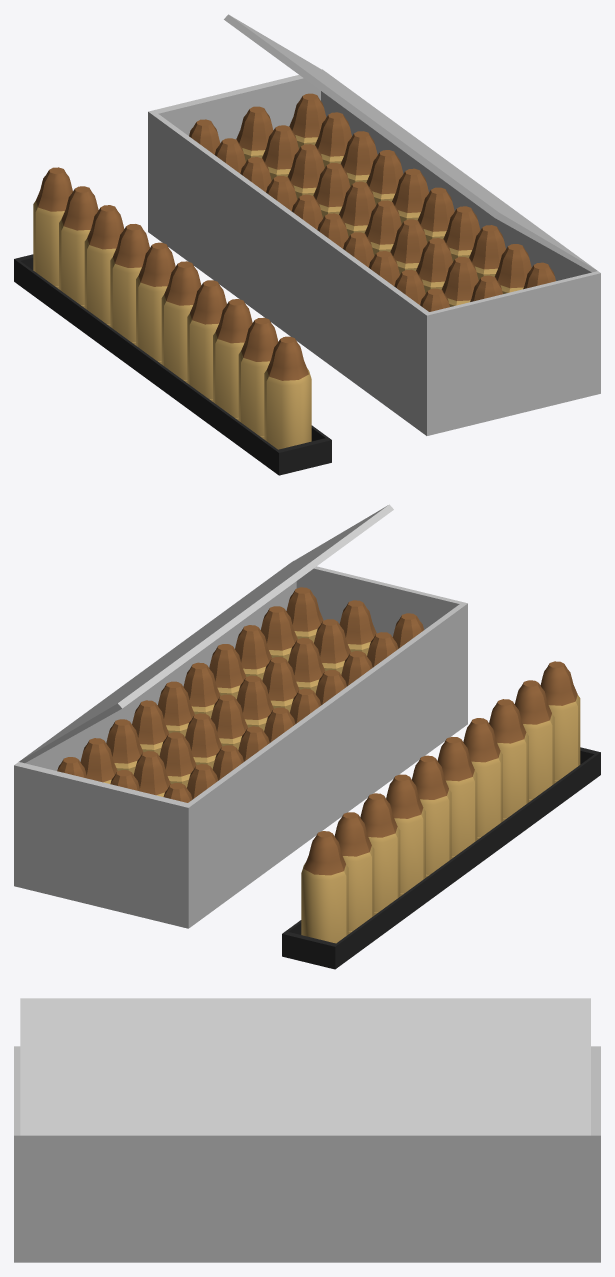
The model's file is patron pp.fbx.
3 renders of one model, top to bottom at view 1: azimuth 30°, elevation 25°; view 2: azimuth 150°, elevation 25°; view 3: azimuth 270°, elevation 25°, orthographic. The views are drawn at different scales.
Visible parts, largest first — view 1: pistolet patron.001, pistolet patron 1; view 2: pistolet patron.001, pistolet patron 1; view 3: pistolet patron.001.
Boxes of the visible parts, x1=… form: pistolet patron.001: x1=148, y1=14, x2=600, y2=435; pistolet patron 1: x1=14, y1=167, x2=331, y2=475; pistolet patron.001: x1=14, y1=504, x2=467, y2=928; pistolet patron 1: x1=282, y1=661, x2=600, y2=969; pistolet patron.001: x1=14, y1=998, x2=600, y2=1262.
Bounding box in the file's own units: 797 × 518 × 1225.
Materials: 1 (1 with a texture image).
